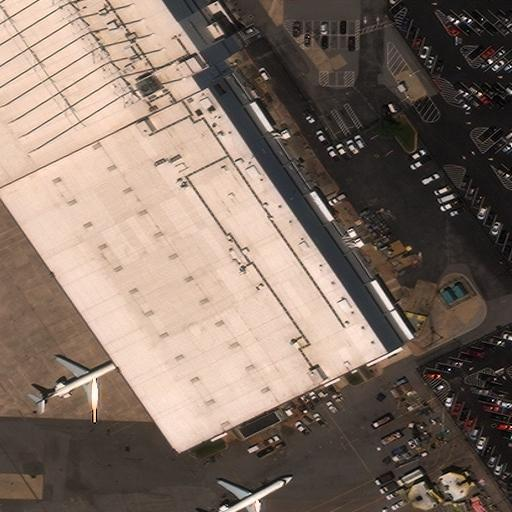Medium Civil Transport: (33, 355, 125, 423), (207, 476, 294, 512)
